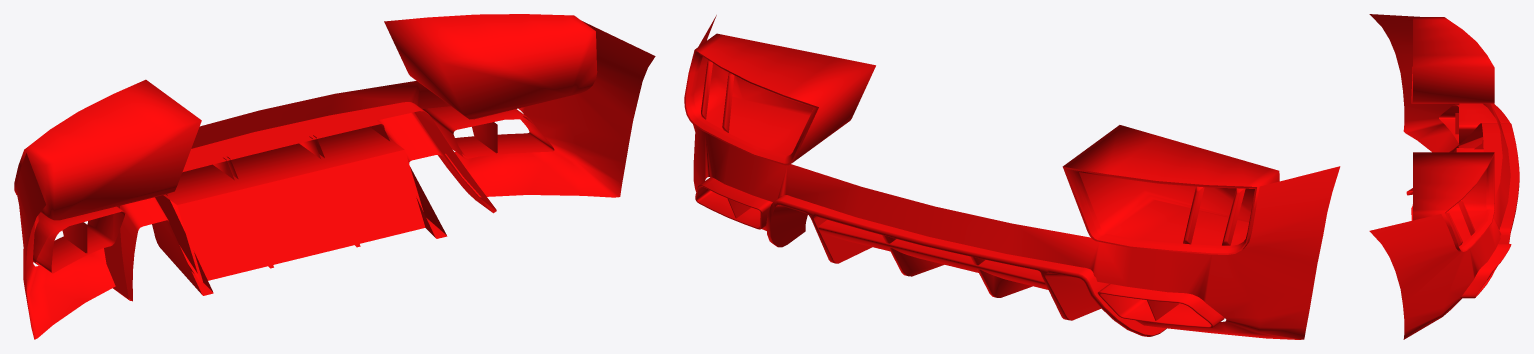
Rendered from AudiR8_BB01_Trim.fbx.
3 views of the same model, side by side, from view 1: azimuth 30°, elevation 25°; view 2: azimuth 150°, elevation 25°; view 3: azimuth 270°, elevation 25° (orthographic). The views are drawn at different scales.
Visible parts, largest first — view 1: AudiR8_BB01_Trim; view 2: AudiR8_BB01_Trim; view 3: AudiR8_BB01_Trim.
Boxes of the visible parts, x1,y1,x2,y2 form: AudiR8_BB01_Trim: (14, 14, 655, 339); AudiR8_BB01_Trim: (684, 15, 1340, 339); AudiR8_BB01_Trim: (1369, 14, 1519, 339).
Size of the model in its own units: 188 by 50.88 by 55.08.
